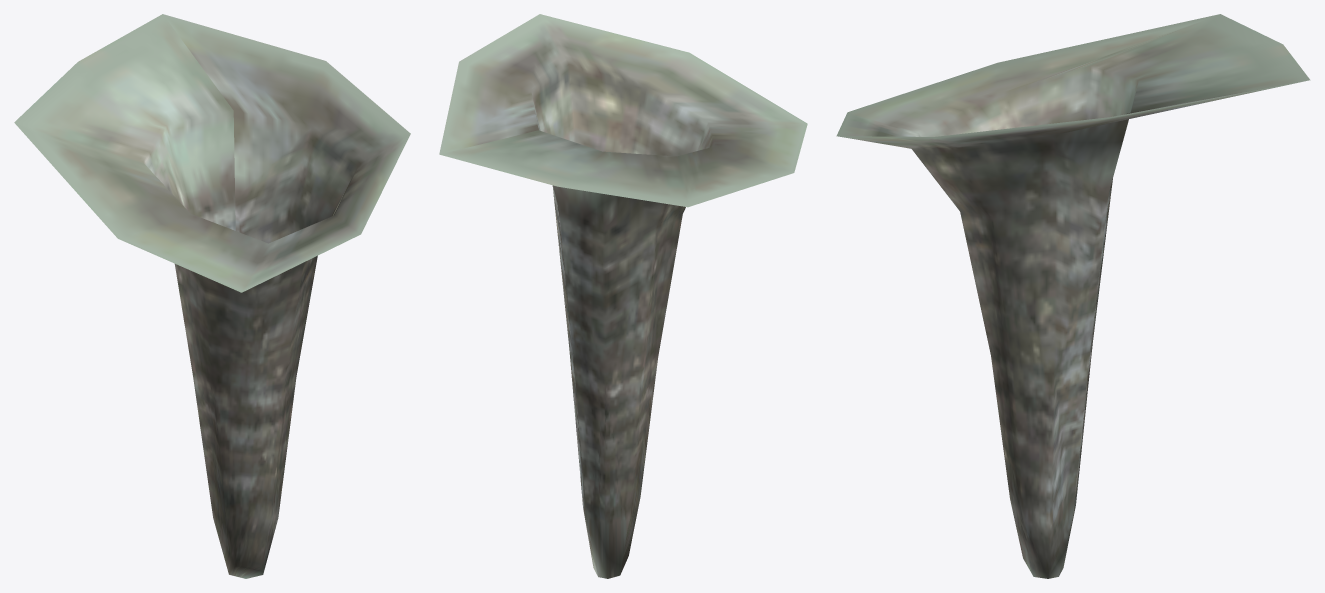
File: TROLLHOLE02_PS-MAINSTALAG85.fbx
3 views of the same model, side by side, from view 1: azimuth 30°, elevation 25°; view 2: azimuth 150°, elevation 25°; view 3: azimuth 270°, elevation 25° (orthographic). The views are drawn at different scales.
Visible parts, largest first — view 1: TROLLHOLE02_PS-MAINSTALAG85; view 2: TROLLHOLE02_PS-MAINSTALAG85; view 3: TROLLHOLE02_PS-MAINSTALAG85.
Part boxes in pixels (box(x1,y1,x2,y2)): TROLLHOLE02_PS-MAINSTALAG85: box(14, 14, 410, 578); TROLLHOLE02_PS-MAINSTALAG85: box(439, 14, 807, 578); TROLLHOLE02_PS-MAINSTALAG85: box(836, 14, 1310, 578).
Bounding box in the file's own units: 13398 × 22482 × 18691.
Materials: 1 (1 with a texture image).
